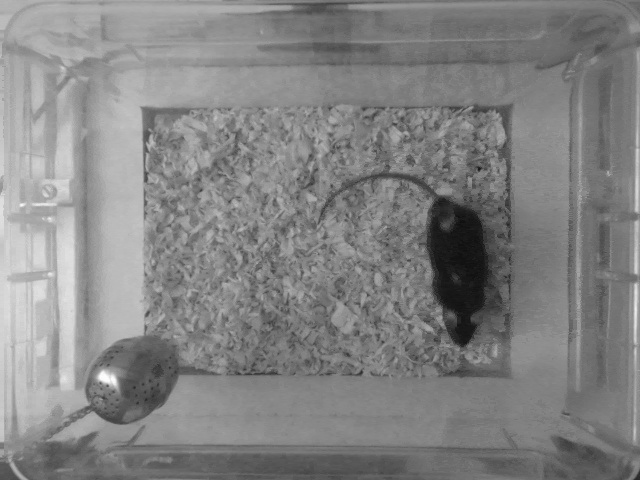mice: (320, 172, 486, 344)
